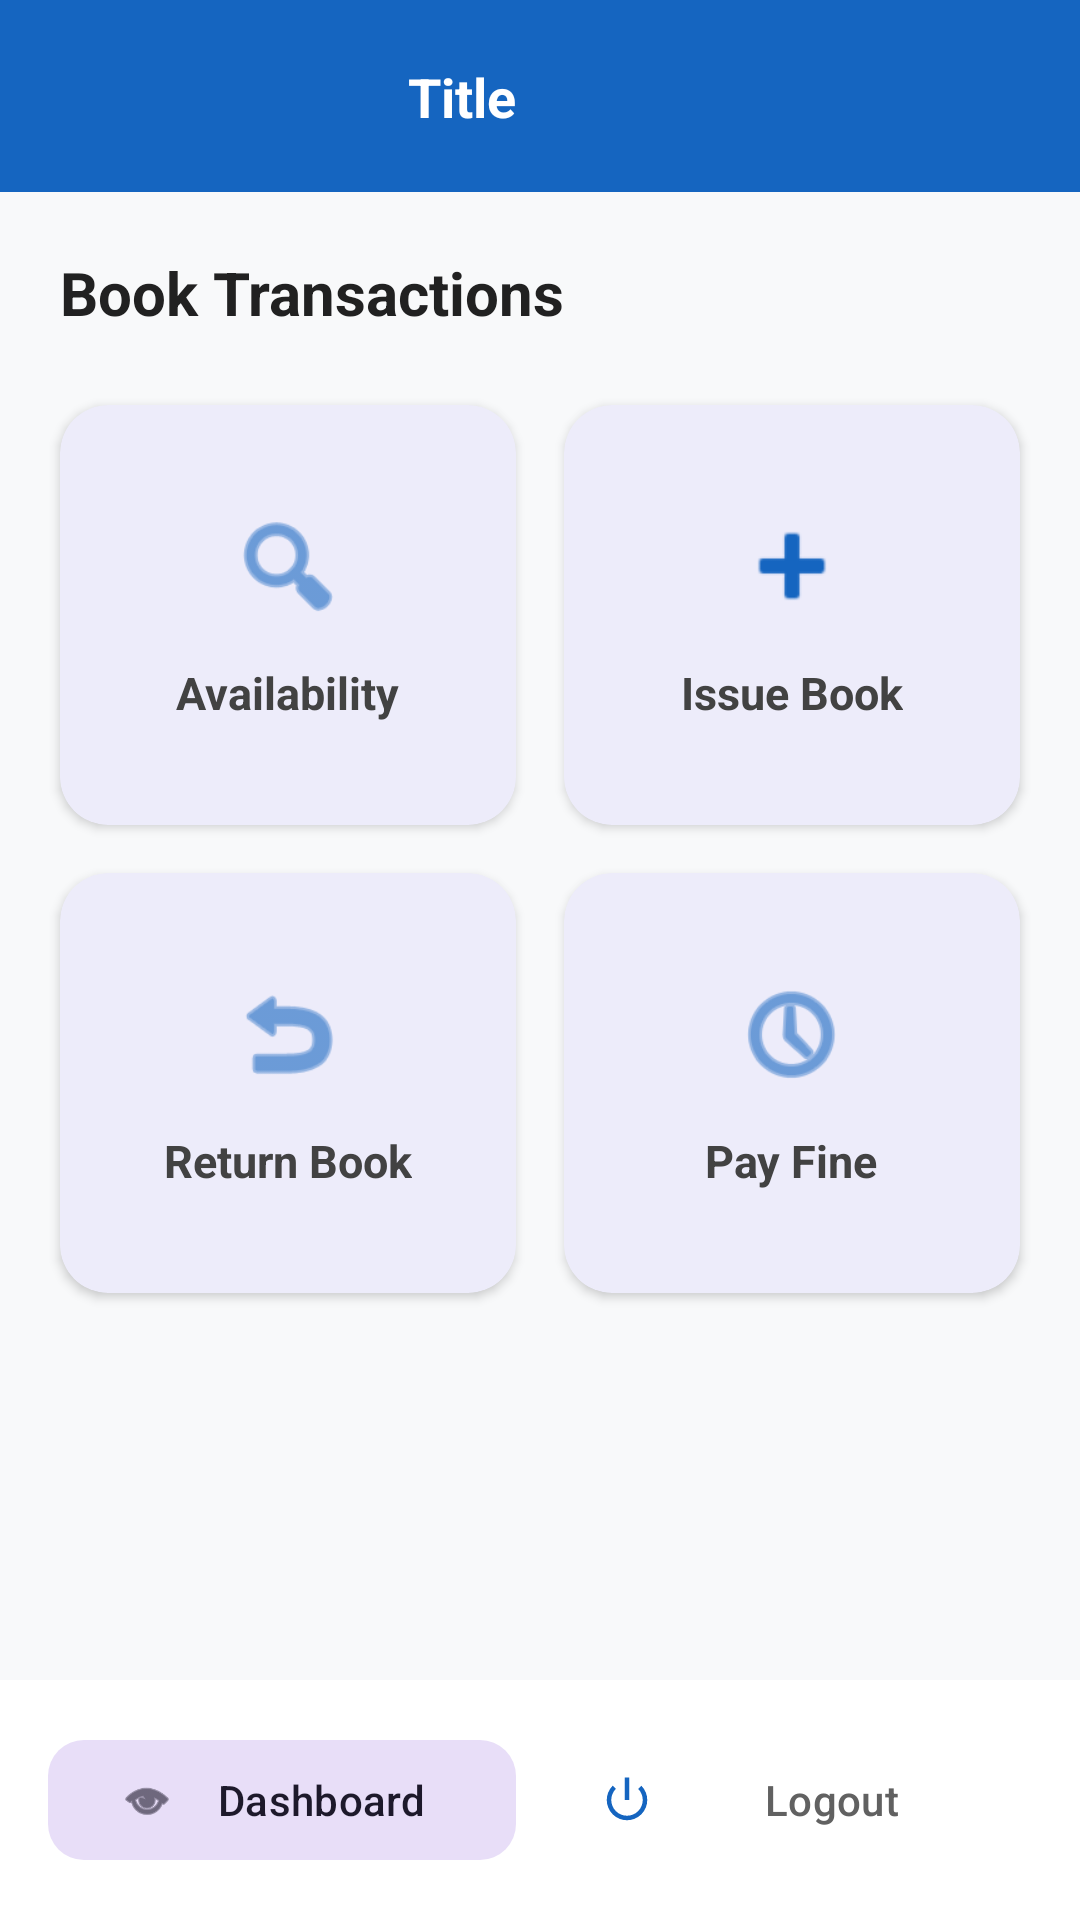

Icon bounding boxes for this 1080w x 1920h phone screenshot, format (x1, y1, x2, y2):
add: (758, 532, 826, 600)
recent history: (748, 991, 835, 1078)
revert: (246, 996, 333, 1074)
search: (244, 522, 332, 611)
